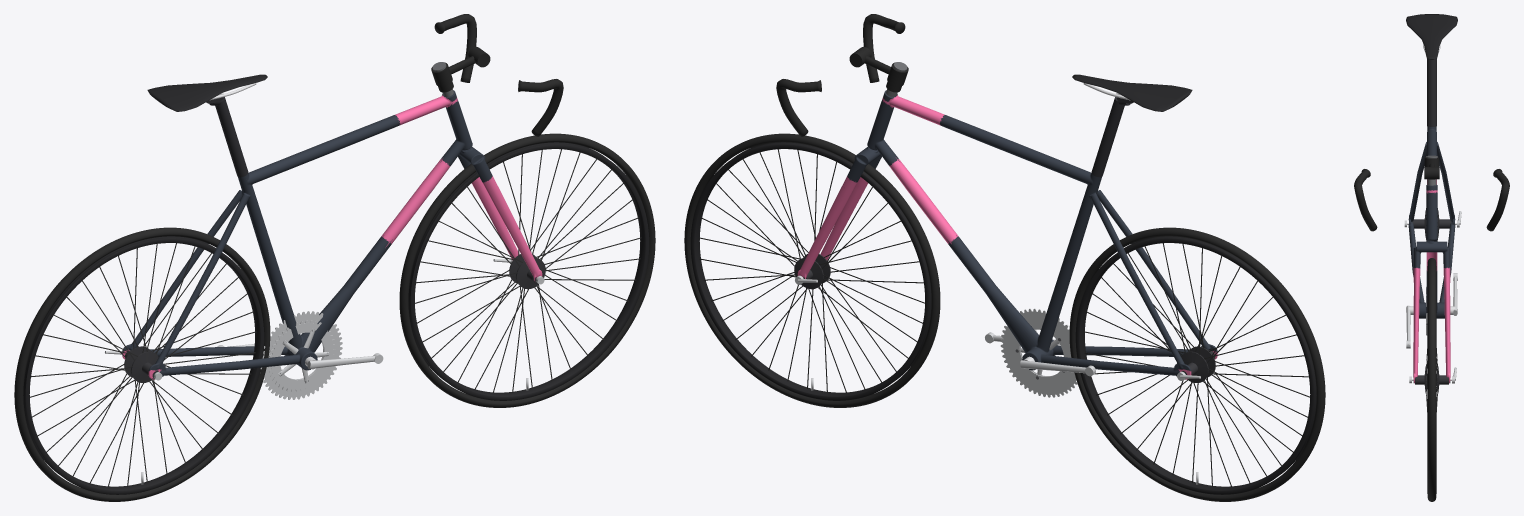
The model's file is bike_web_raw.glb.
3 views of the same model, side by side, from view 1: azimuth 30°, elevation 25°; view 2: azimuth 150°, elevation 25°; view 3: azimuth 270°, elevation 25° (orthographic). The views are drawn at different scales.
Parts seen in each view (by area): view 1: frame, tyre_rear, tyre_front, rim_front, rim_rear, spokes_rear, spokes_front, chainrings, fork, saddle, dropbar, crank_arms (+4 smaller); view 2: frame, tyre_front, tyre_rear, rim_front, rim_rear, spokes_front, spokes_rear, fork, chainrings, saddle, dropbar, stem (+4 smaller); view 3: frame, tyre_front, fork, saddle, dropbar, seatpost, crank_arms, rim_front, stem, hub_rear, hub_front.
Part boxes in pixels (bbox=[...]): frame: bbox=[122, 90, 472, 379]; tyre_rear: bbox=[14, 227, 270, 501]; tyre_front: bbox=[399, 133, 655, 407]; rim_front: bbox=[408, 142, 649, 400]; rim_rear: bbox=[23, 236, 264, 494]; spokes_rear: bbox=[30, 243, 256, 486]; spokes_front: bbox=[415, 149, 641, 392]; chainrings: bbox=[260, 311, 342, 399]; fork: bbox=[458, 147, 542, 281]; saddle: bbox=[147, 74, 267, 111]; dropbar: bbox=[434, 14, 563, 136]; crank_arms: bbox=[217, 328, 383, 383]; frame: bbox=[867, 90, 1217, 379]; tyre_front: bbox=[684, 133, 940, 407]; tyre_rear: bbox=[1069, 227, 1325, 501]; rim_front: bbox=[690, 142, 931, 400]; rim_rear: bbox=[1075, 236, 1316, 494]; spokes_front: bbox=[698, 149, 924, 392]; spokes_rear: bbox=[1083, 243, 1309, 486]; fork: bbox=[797, 147, 881, 278]; chainrings: bbox=[1000, 308, 1077, 397]; saddle: bbox=[1072, 74, 1192, 111]; dropbar: bbox=[776, 14, 905, 136]; stem: bbox=[849, 46, 908, 96]; frame: bbox=[1408, 126, 1455, 318]; tyre_front: bbox=[1427, 258, 1436, 501]; fork: bbox=[1413, 241, 1450, 383]; saddle: bbox=[1406, 14, 1457, 59]; dropbar: bbox=[1354, 169, 1509, 231]; seatpost: bbox=[1427, 58, 1436, 126]; crank_arms: bbox=[1406, 273, 1457, 348]; rim_front: bbox=[1427, 266, 1436, 493]; stem: bbox=[1424, 155, 1439, 185]; hub_rear: bbox=[1412, 210, 1451, 237]; hub_front: bbox=[1413, 366, 1450, 393].
Bounding box in the file's own units: 1.68 × 0.9885 × 0.4264.
